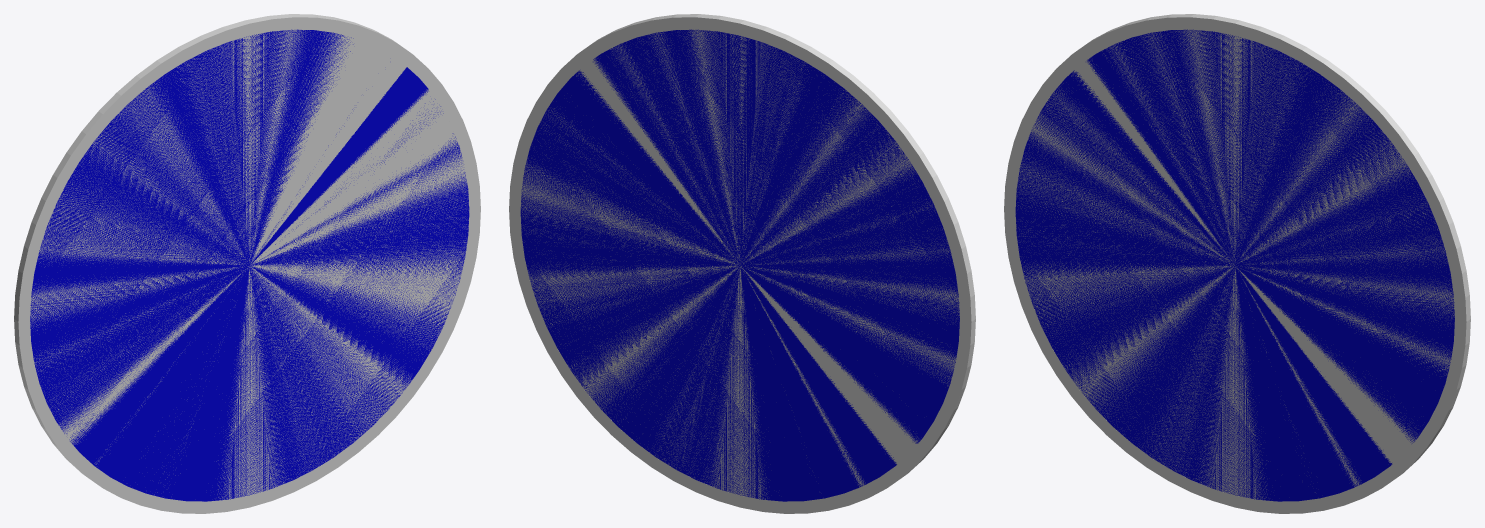
The model's file is extruded_disk.glb.
3 renders of one model, left to right at view 1: azimuth 30°, elevation 25°; view 2: azimuth 150°, elevation 25°; view 3: azimuth 330°, elevation 25°, orthographic.
Visible parts, largest first — view 1: world; view 2: world; view 3: world.
Part boxes in pixels (box(x1,y1,x2,y2)): world: box(14, 14, 480, 513); world: box(509, 14, 975, 513); world: box(1004, 14, 1470, 513).
Bounding box in the file's own units: 12 × 12 × 0.201.
